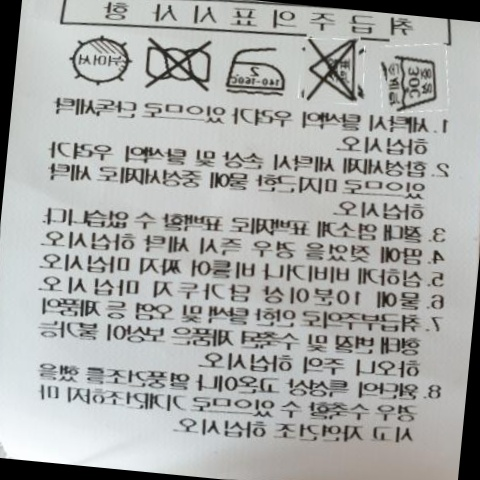DN_wring: (132, 32, 218, 97)
dry_flat_in_shade: (60, 30, 133, 89)
hand_wash: (368, 43, 444, 116)
iron_medium: (220, 44, 289, 99)
non_chlorine_bleach: (297, 36, 369, 110)
